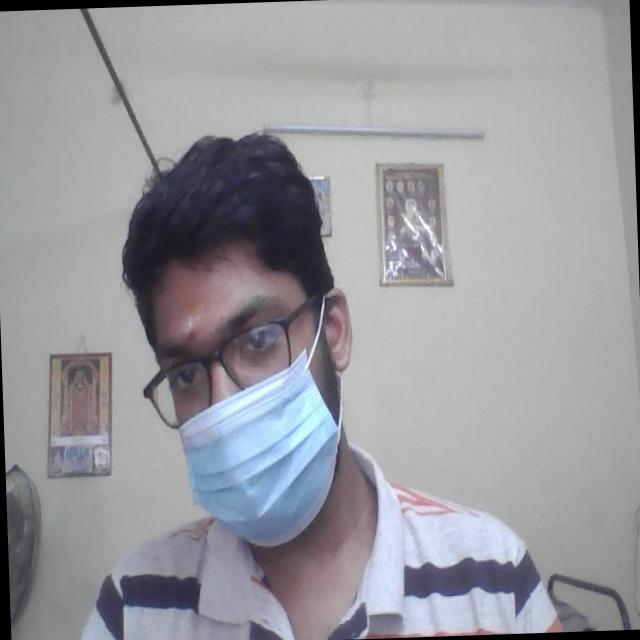Focused: (148, 262, 330, 521)
